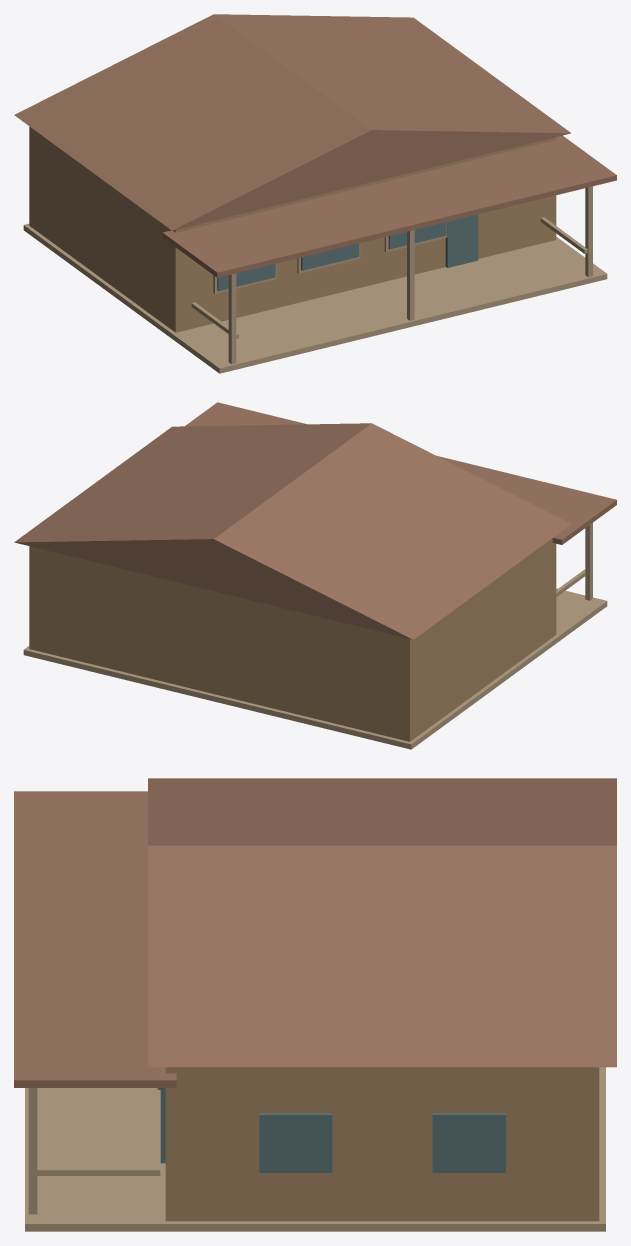
Rendered from clubhouse_01.glb.
3 views of the same model, one above another, from view 1: azimuth 30°, elevation 25°; view 2: azimuth 150°, elevation 25°; view 3: azimuth 270°, elevation 25° (orthographic). The views are drawn at different scales.
Parts seen in each view (by area): view 1: Clubhouse_01; view 2: Clubhouse_01; view 3: Clubhouse_01.
Boxes of the visible parts, x1,y1,x2,y2 form: Clubhouse_01: (14, 14, 616, 373); Clubhouse_01: (14, 402, 616, 749); Clubhouse_01: (14, 778, 616, 1231).
Size of the model in its own units: 13.05 by 5.18 by 11.51.
